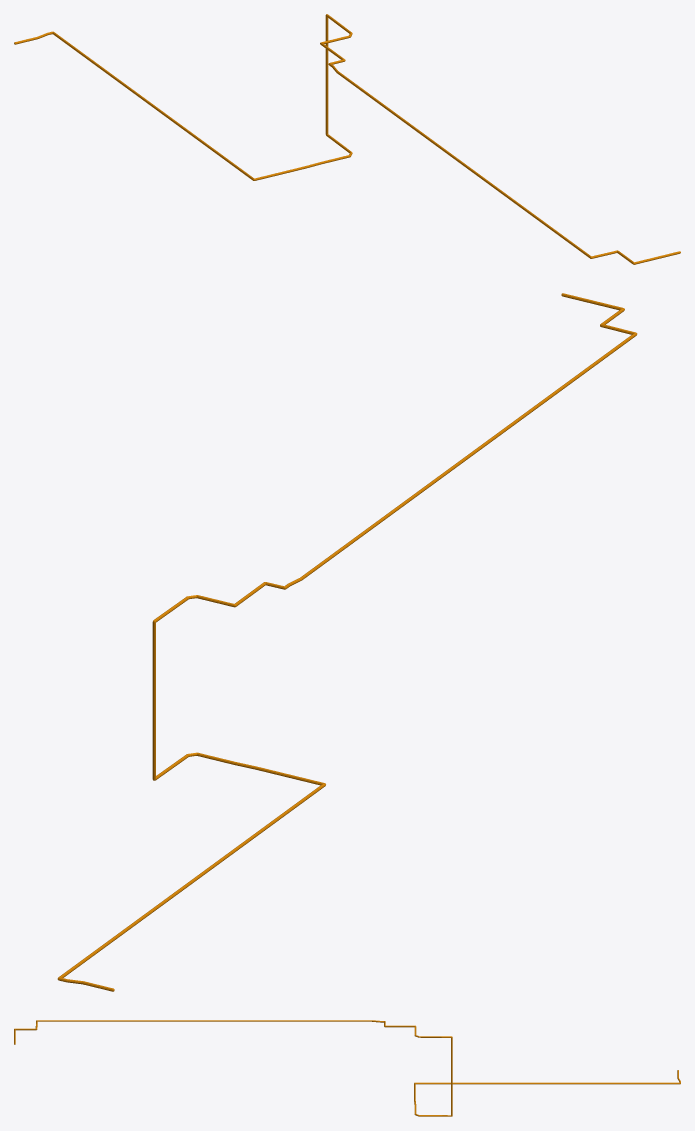
3 views of the same model, one above another, from view 1: azimuth 30°, elevation 25°; view 2: azimuth 150°, elevation 25°; view 3: azimuth 270°, elevation 25° (orthographic). The views are drawn at different scales.
Size of the model in its own units: 1436 by 1020 by 7669.
